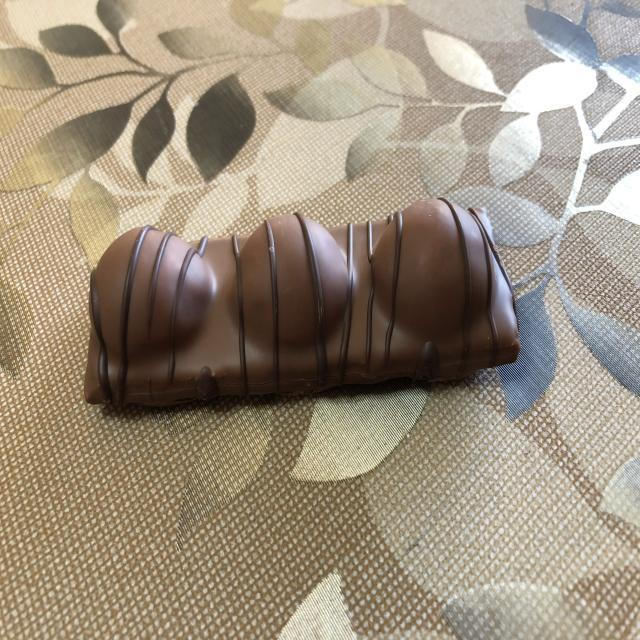Chocolate bar packaged: (82, 195, 519, 412)
